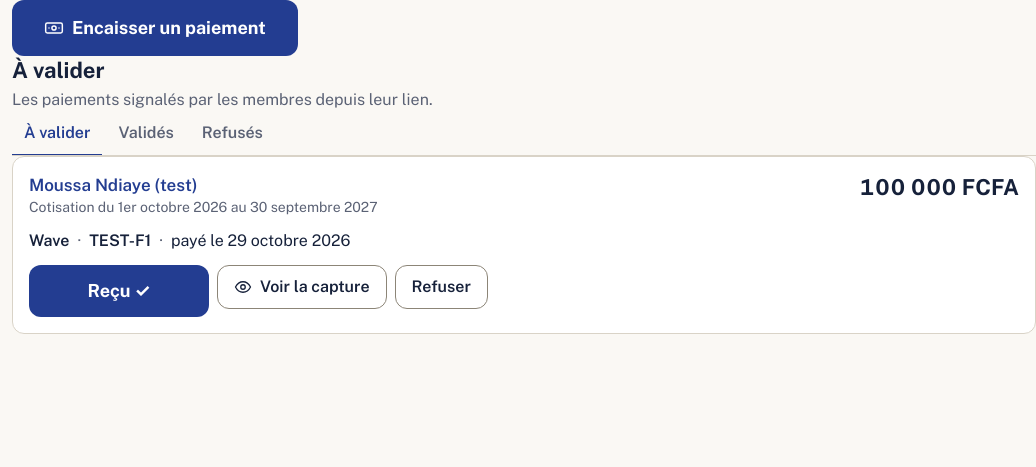
Test: B3 — « Reçu ✓ » : la confirmation légère (R9) › « Annuler » ne valide rien
What coordinates should you click on to do the following:
click the button "Reçu ✓"
I would click on:
 (119, 291)
Its box is [29,265,209,317].
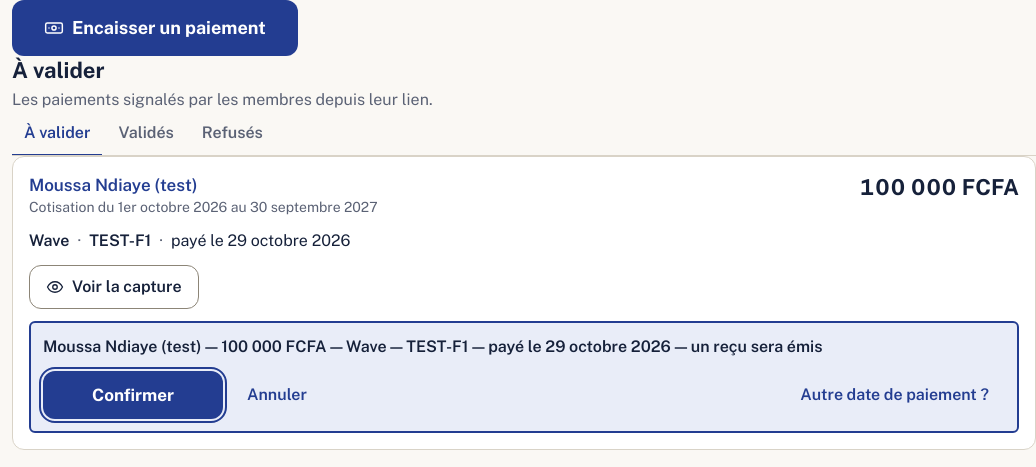
What coordinates should you click on to do the following:
click the button "Annuler"
I would click on:
 (277, 395)
Its box is [231,373,323,417].
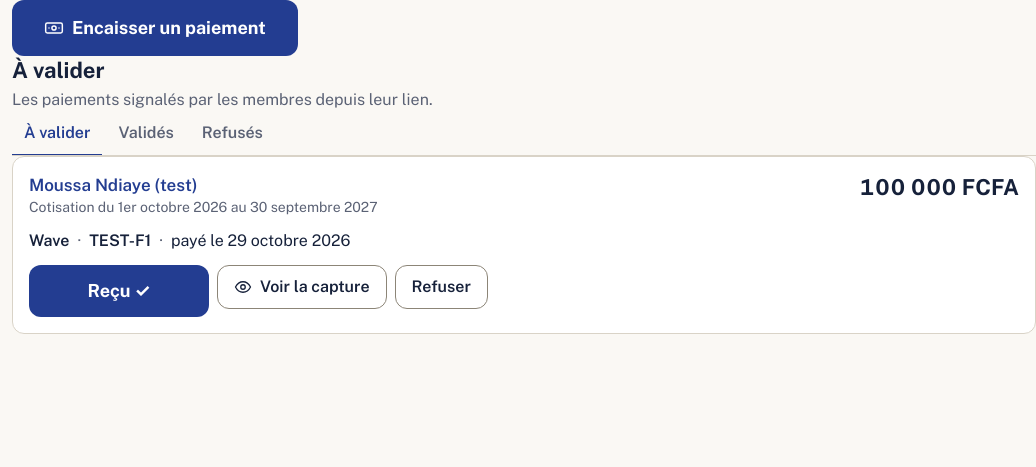
Result: the button "Reçu ✓" is shown at [29,265,209,317]
